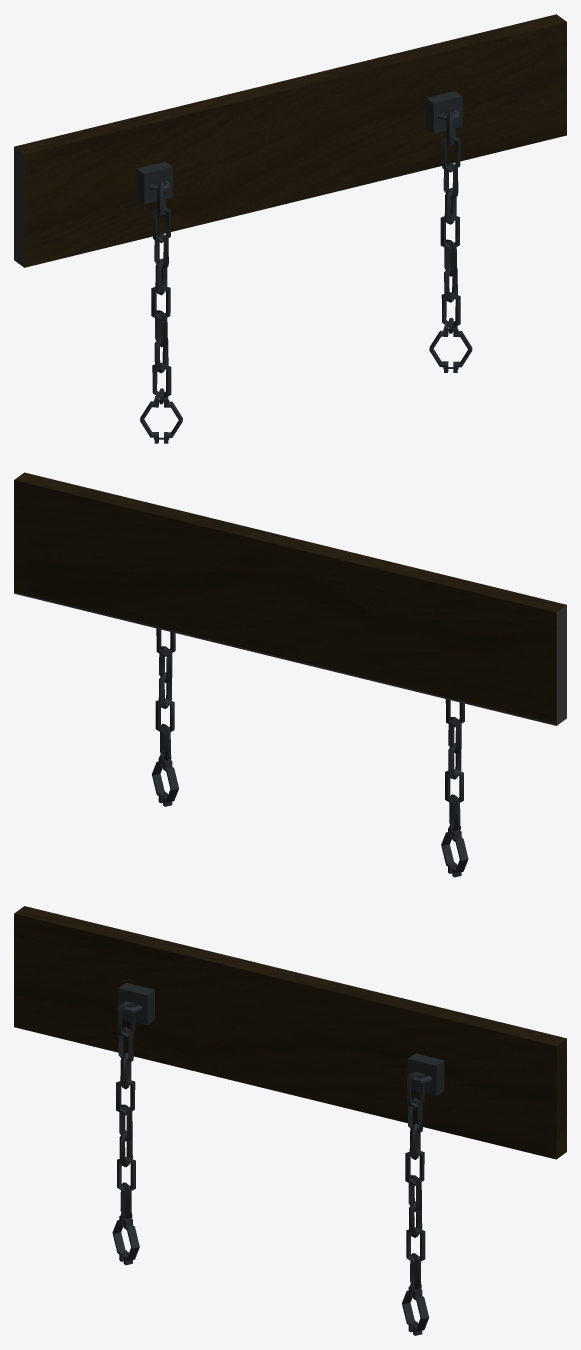
The model's file is Handcuffs.fbx.
3 renders of one model, top to bottom at view 1: azimuth 30°, elevation 25°; view 2: azimuth 150°, elevation 25°; view 3: azimuth 330°, elevation 25°, orthographic.
Visible parts, largest first — view 1: Board, Handcuffs, Handcuffs2; view 2: Board, Handcuffs, Handcuffs2; view 3: Board, Handcuffs, Handcuffs2.
Part boxes in pixels (bbox=[...]): Board: bbox=[14, 14, 566, 267]; Handcuffs: bbox=[136, 161, 182, 443]; Handcuffs2: bbox=[426, 91, 472, 372]; Board: bbox=[14, 472, 566, 725]; Handcuffs: bbox=[441, 699, 468, 877]; Handcuffs2: bbox=[151, 628, 178, 806]; Board: bbox=[14, 906, 566, 1159]; Handcuffs: bbox=[112, 982, 154, 1265]; Handcuffs2: bbox=[402, 1053, 444, 1335].
Bounding box in the file's own units: 150 × 81.6 × 14.53.
